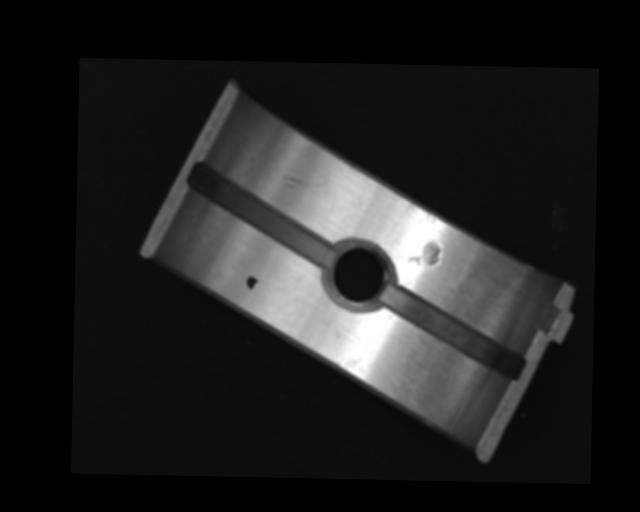blot: (246, 275, 258, 291)
bruise: (406, 239, 441, 267)
gap: (188, 162, 333, 268), (380, 286, 524, 379)
hole: (326, 239, 393, 312)
nick: (282, 174, 329, 191)
